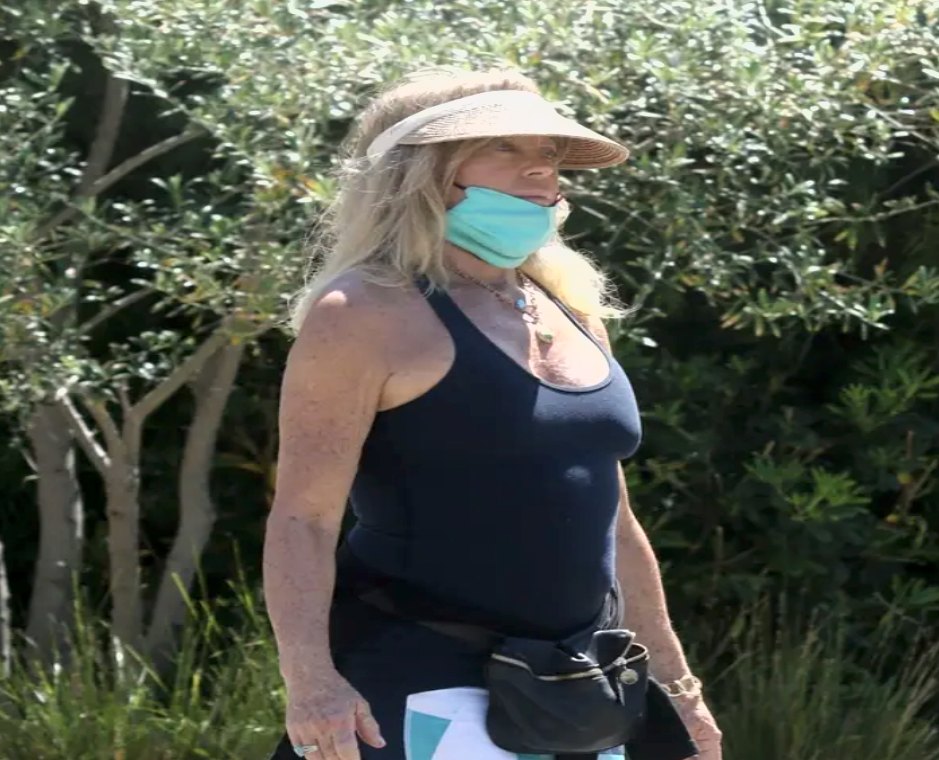mask_weared_incorrect: (351, 72, 615, 275)
